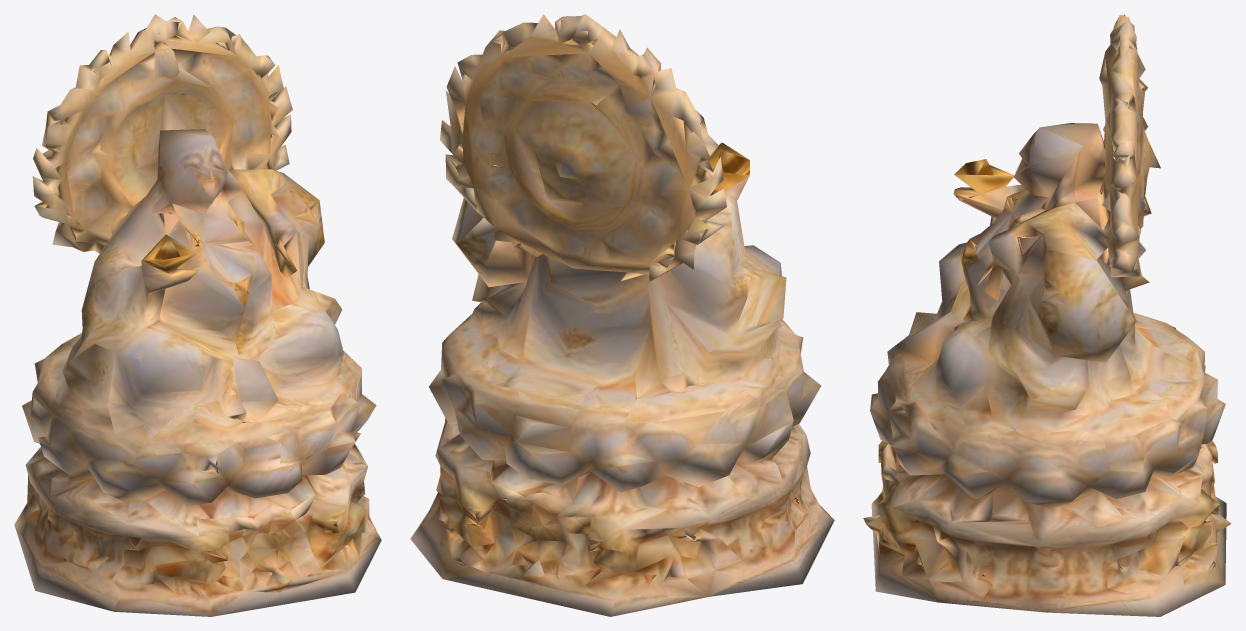
The model's file is far.glb.
3 renders of one model, left to right at view 1: azimuth 30°, elevation 25°; view 2: azimuth 150°, elevation 25°; view 3: azimuth 270°, elevation 25°, orthographic. The views are drawn at different scales.
Parts seen in each view (by area): view 1: owner-collection20-01; view 2: owner-collection20-01; view 3: owner-collection20-01.
Boxes of the visible parts, bbox=[...] form: owner-collection20-01: bbox=[14, 14, 381, 616]; owner-collection20-01: bbox=[410, 14, 834, 616]; owner-collection20-01: bbox=[863, 14, 1231, 616].
Bounding box in the file's own units: 0.6522 × 0.9912 × 0.6235.
1 material, 1 textured.
